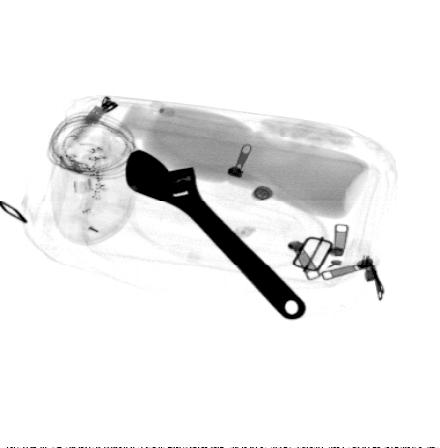Wrench: (122, 148, 308, 323)
